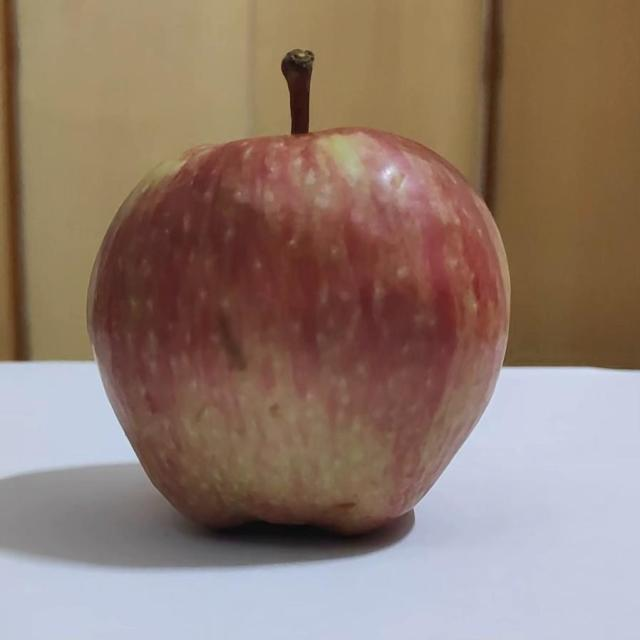Apple: (88, 51, 510, 532)
